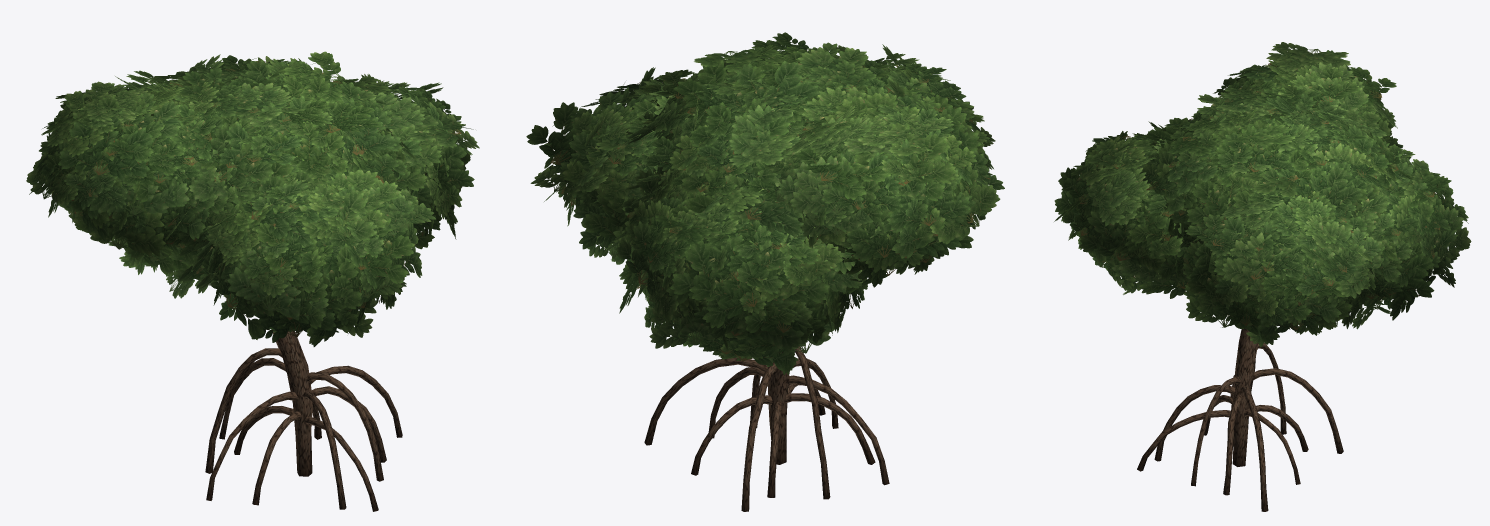
Rendered from mangrove_d_lod1.glb.
The picture shows the model from 3 angles, left to right: view 1: azimuth 30°, elevation 25°; view 2: azimuth 150°, elevation 25°; view 3: azimuth 270°, elevation 25°; orthographic projection. The views are drawn at different scales.
Parts seen in each view (by area): view 1: leaves, wood; view 2: leaves, wood; view 3: leaves, wood.
Part boxes in pixels (bbox=[...]): leaves: bbox=[26, 51, 479, 346]; wood: bbox=[205, 331, 402, 511]; leaves: bbox=[526, 32, 1004, 374]; wood: bbox=[644, 346, 889, 511]; leaves: bbox=[1054, 42, 1471, 346]; wood: bbox=[1137, 328, 1343, 511].
Bounding box in the file's own units: 12.95 × 12.27 × 12.81.
Materials: 2 (2 with a texture image).
